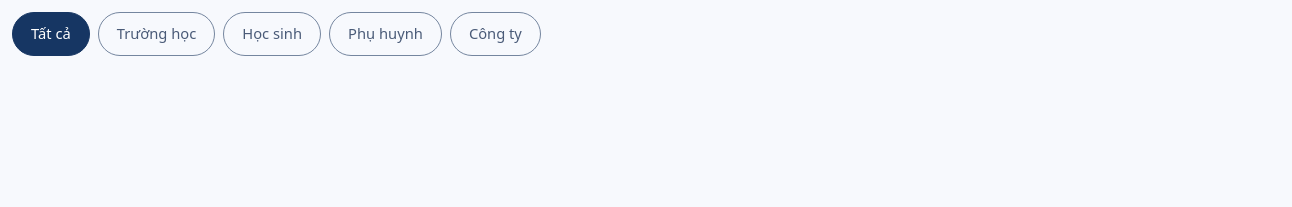
NewsFilters in Vietnamese › labels the chips, empty state and count in Vietnamese
Click the button "Học sinh".
click(272, 34)  # box [223,12,321,56]
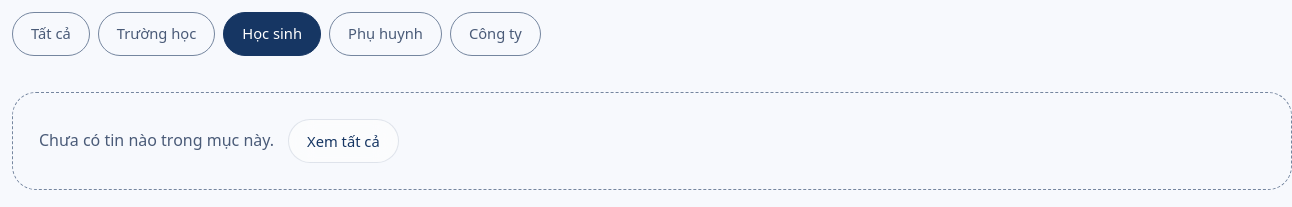
Check: the text "Chưa có tin nào trong mục này." is shown, box [39,128,274,154]
Check: the button "Xem tất cả" is shown, box [288,119,399,163]
